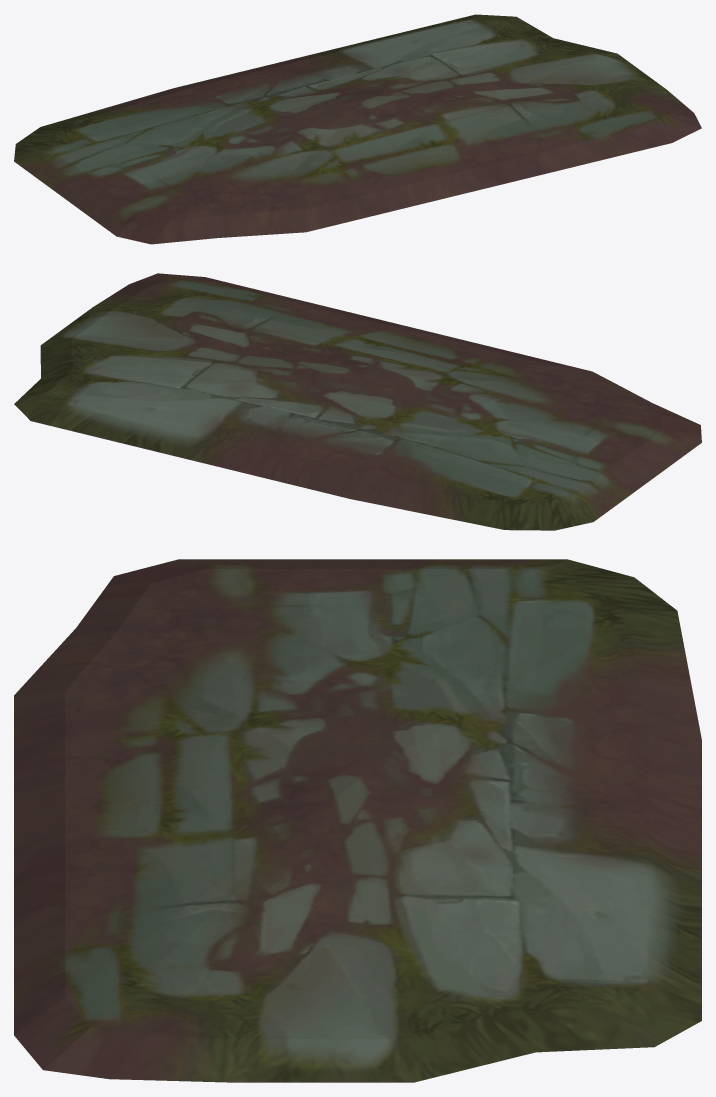
File: yw_shanlin_brick_001.FBX
The picture shows the model from 3 angles, top to bottom: view 1: azimuth 30°, elevation 25°; view 2: azimuth 150°, elevation 25°; view 3: azimuth 270°, elevation 25°; orthographic projection. The views are drawn at different scales.
Visible parts, largest first — view 1: yw_shanlin_brick_001; view 2: yw_shanlin_brick_001; view 3: yw_shanlin_brick_001.
Boxes of the visible parts, box(x1,y1,x2,y2) form: yw_shanlin_brick_001: box(14, 14, 701, 244); yw_shanlin_brick_001: box(14, 273, 701, 530); yw_shanlin_brick_001: box(14, 559, 701, 1082).
Size of the model in its own units: 293 by 163 by 14.39.
